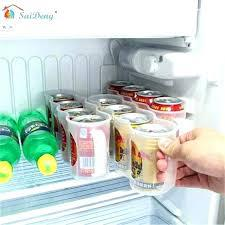beer: (45, 80, 186, 193)
